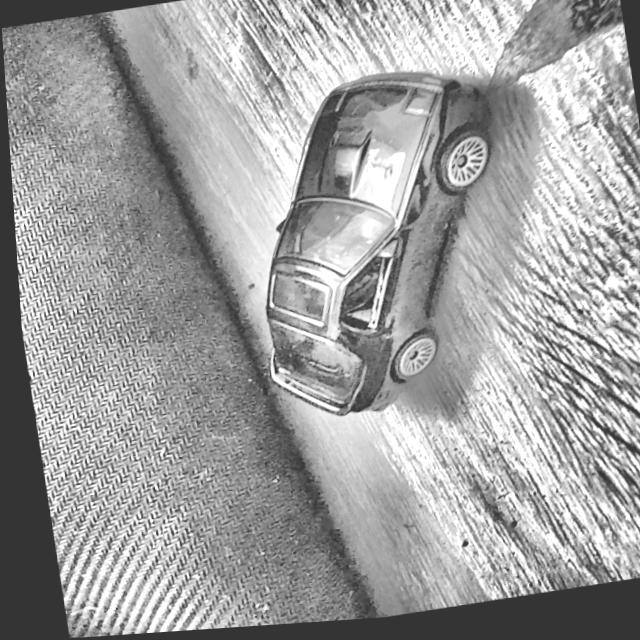car: (223, 62, 526, 432)
